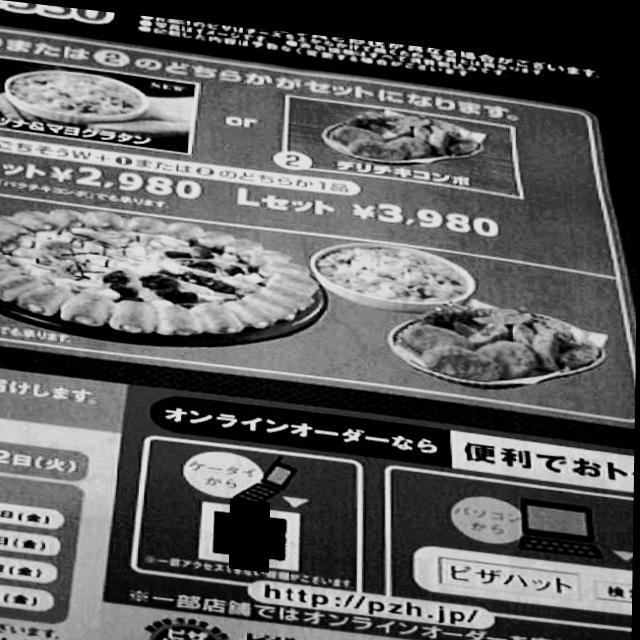qr_code: (223, 500, 279, 560)
